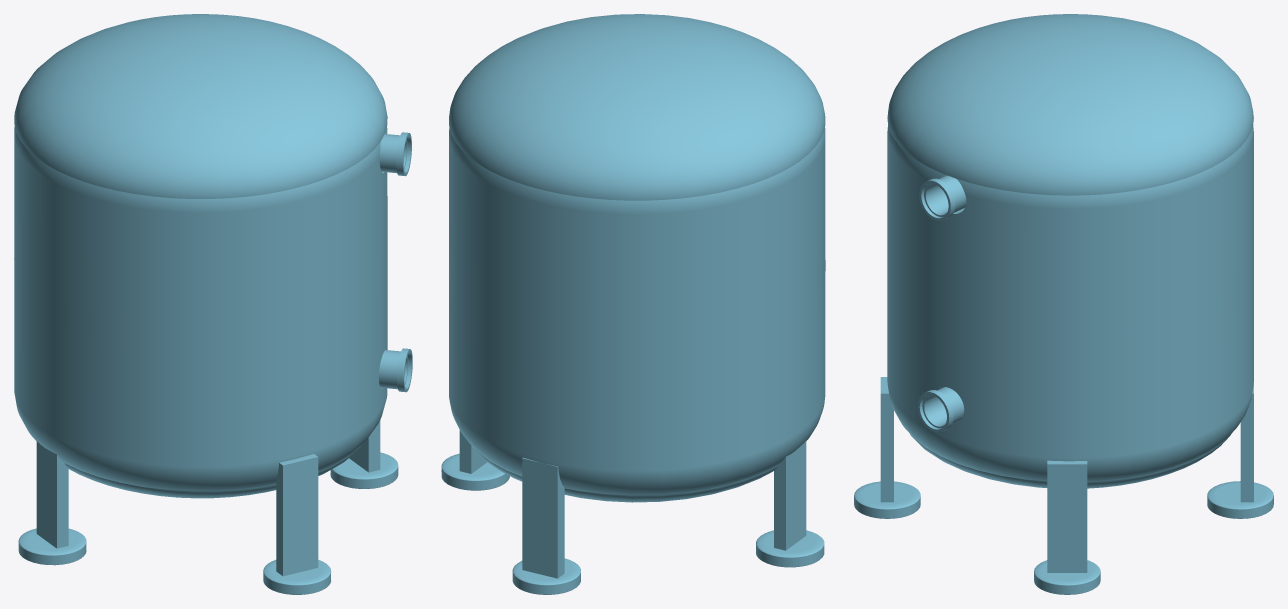
The model's file is tanque.glb.
The picture shows the model from 3 angles, left to right: view 1: azimuth 30°, elevation 25°; view 2: azimuth 150°, elevation 25°; view 3: azimuth 270°, elevation 25°; orthographic projection. The views are drawn at different scales.
Visible parts, largest first — view 1: Body1; view 2: Body1; view 3: Body1.
Boxes of the visible parts, <box> form: Body1: <box>14,14,412,594</box>; Body1: <box>441,14,825,594</box>; Body1: <box>854,14,1273,594</box>.
Size of the model in its own units: 0.063 by 0.0756 by 0.063.
